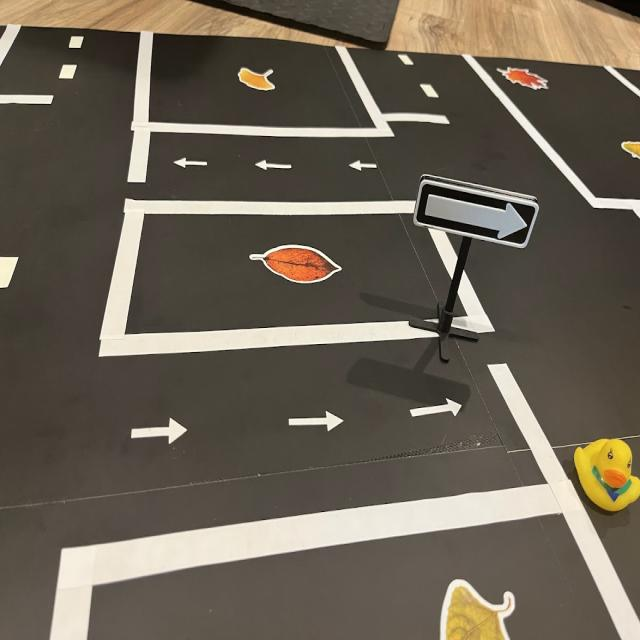duck_regular: (572, 435, 640, 517)
road_oneway: (128, 415, 192, 451), (286, 407, 351, 442), (408, 393, 469, 427), (252, 157, 297, 176), (171, 155, 212, 174), (347, 158, 382, 178)
sign_oneway_right: (412, 173, 543, 251)
